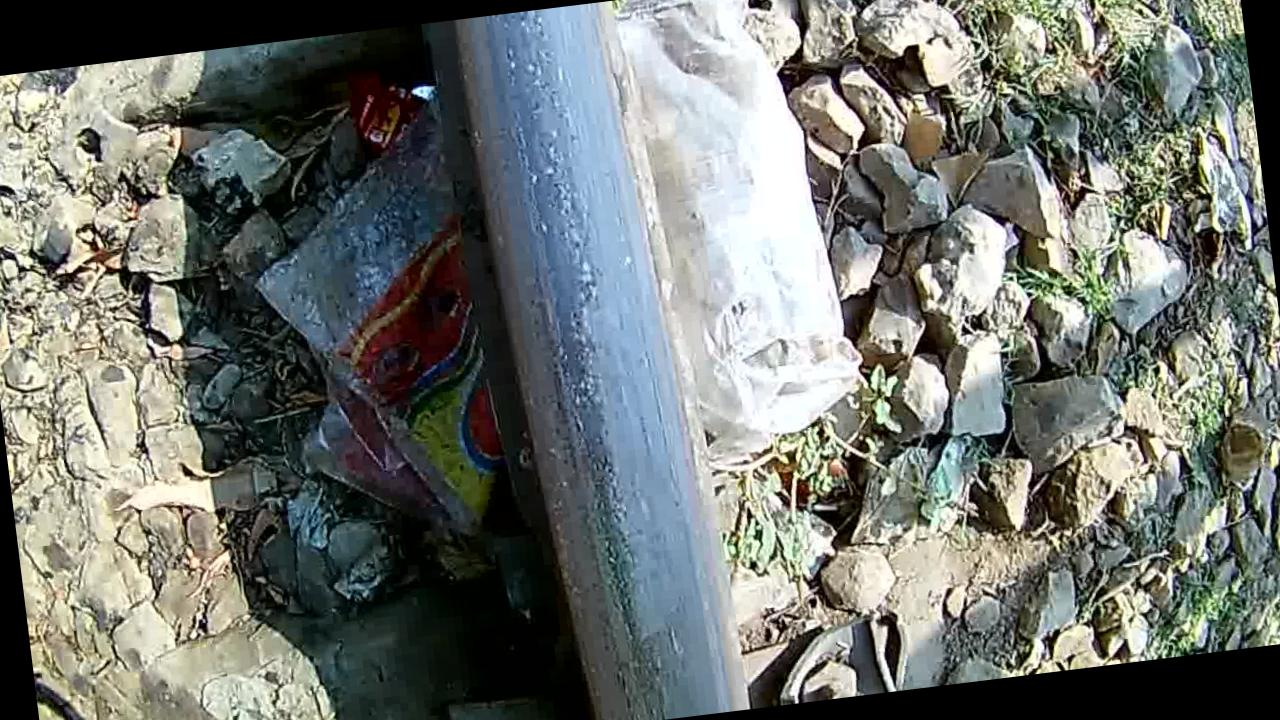clip_missing: (509, 5, 695, 720)
